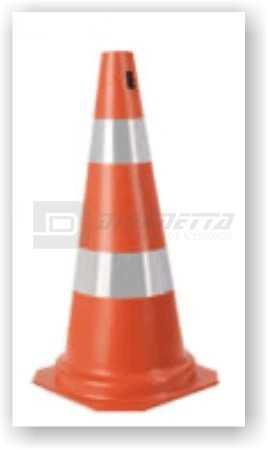traffic_cone: (32, 49, 220, 412)
